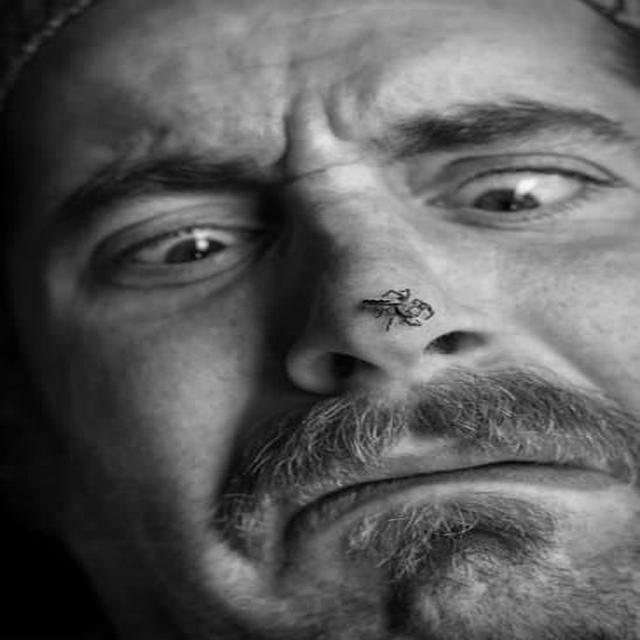Fear: (22, 12, 640, 640)
